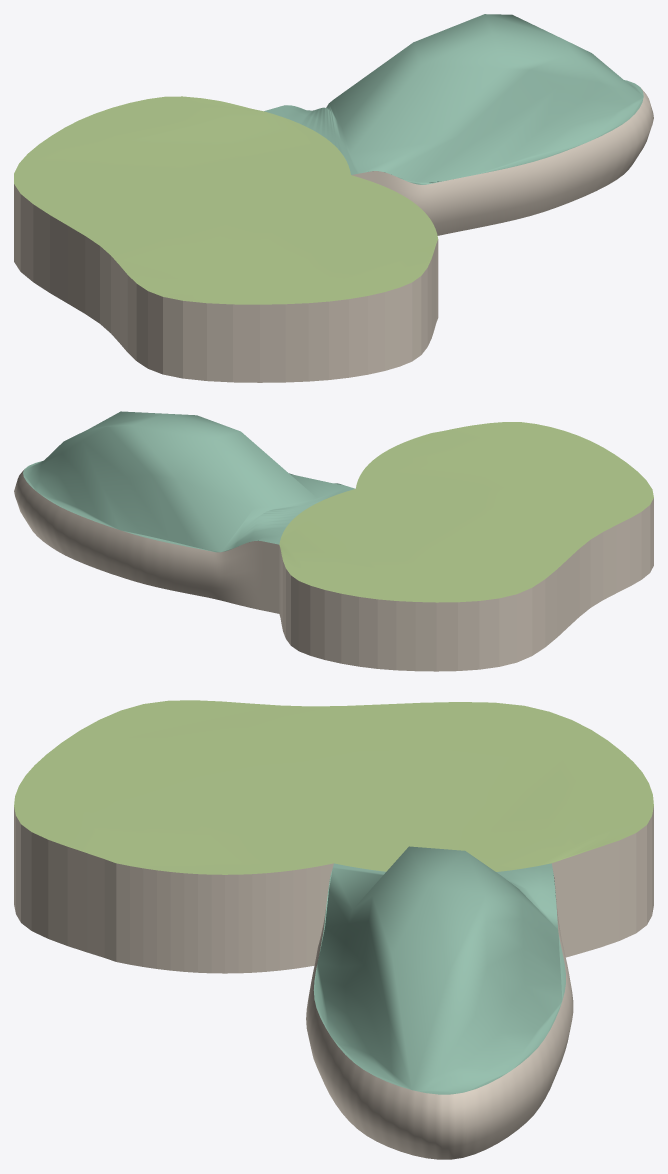
File: seaward-source.glb
3 views of the same model, one above another, from view 1: azimuth 30°, elevation 25°; view 2: azimuth 150°, elevation 25°; view 3: azimuth 270°, elevation 25° (orthographic). The views are drawn at different scales.
Visible parts, largest first — view 1: baseline/top, seaward/top, baseline/rounded-coast, seaward/rounded-coast; view 2: baseline/top, seaward/top, baseline/rounded-coast, seaward/rounded-coast; view 3: baseline/top, seaward/top, baseline/bank-north-seam, baseline/rounded-coast, seaward/rounded-coast.
Boxes of the visible parts, x1=… form: baseline/top: x1=14, y1=96, x2=437, y2=304; seaward/top: x1=264, y1=14, x2=643, y2=184; baseline/rounded-coast: x1=14, y1=184, x2=438, y2=382; seaward/rounded-coast: x1=351, y1=88, x2=653, y2=235; baseline/top: x1=279, y1=422, x2=653, y2=602; seaward/top: x1=23, y1=411, x2=355, y2=552; baseline/rounded-coast: x1=279, y1=498, x2=653, y2=671; seaward/rounded-coast: x1=14, y1=469, x2=279, y2=613; baseline/top: x1=14, y1=700, x2=653, y2=874; seaward/top: x1=313, y1=846, x2=565, y2=1094; baseline/bank-north-seam: x1=116, y1=863, x2=333, y2=973; baseline/rounded-coast: x1=14, y1=806, x2=653, y2=961; seaward/rounded-coast: x1=306, y1=899, x2=573, y2=1159.
Bounding box in the file's own units: 8.1 × 1.88 × 5.88.
